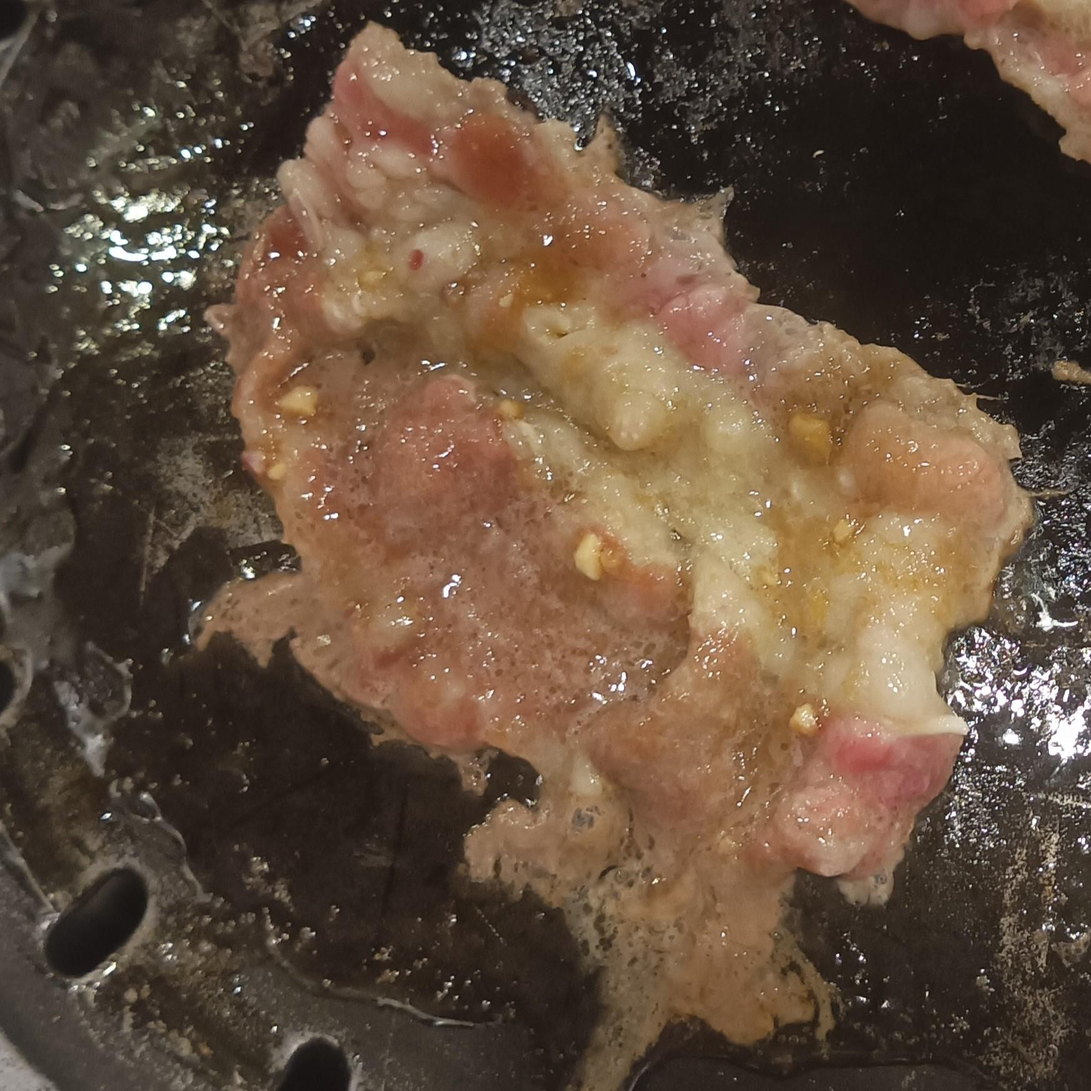Undercooked: (206, 28, 1025, 1043), (845, 0, 1090, 168)
